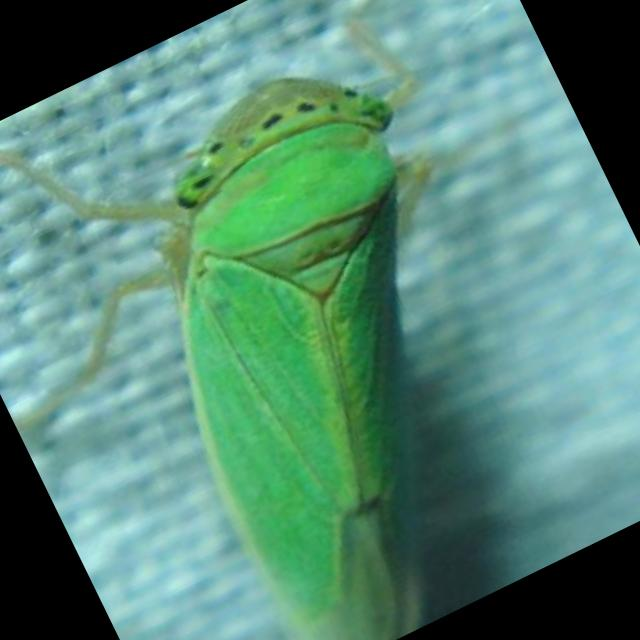green-leafhopper: (14, 24, 619, 640)
